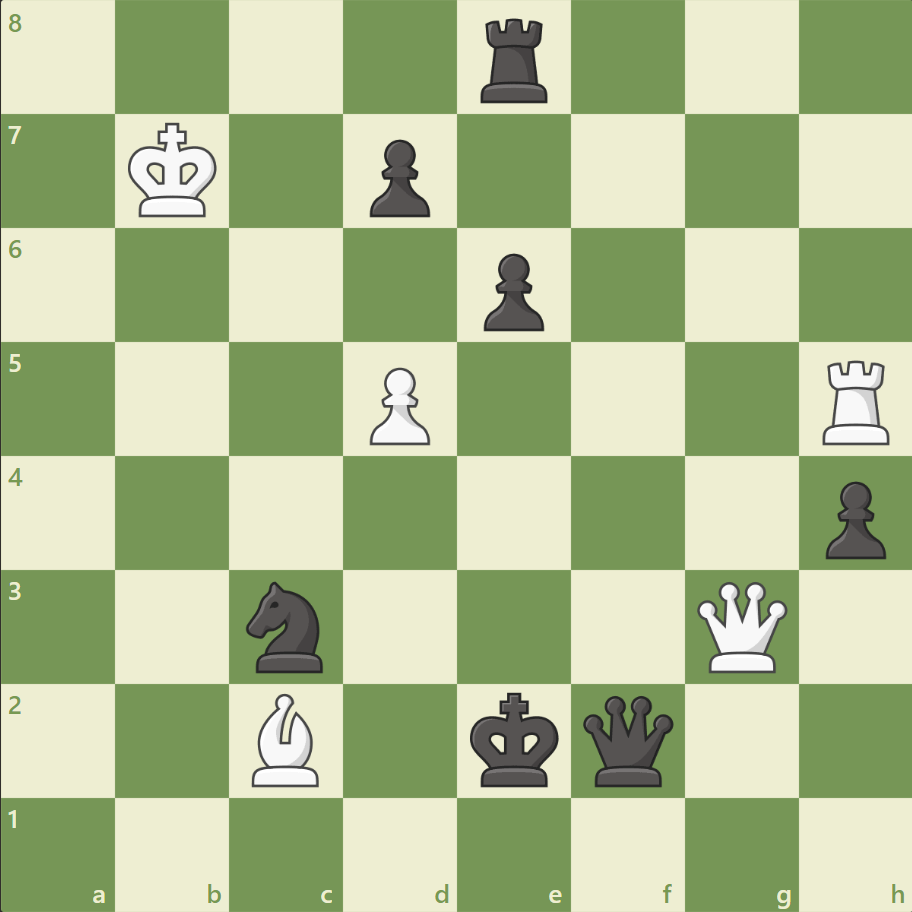B: (244, 687, 328, 790)
K: (124, 117, 224, 225)
P: (361, 359, 435, 450)
Q: (691, 576, 790, 676)
R: (814, 352, 897, 449)
k: (465, 685, 565, 793)
n: (238, 575, 335, 677)
p: (474, 246, 549, 337), (361, 132, 435, 223), (815, 473, 889, 564)
q: (578, 690, 677, 789)
r: (473, 12, 556, 109)
